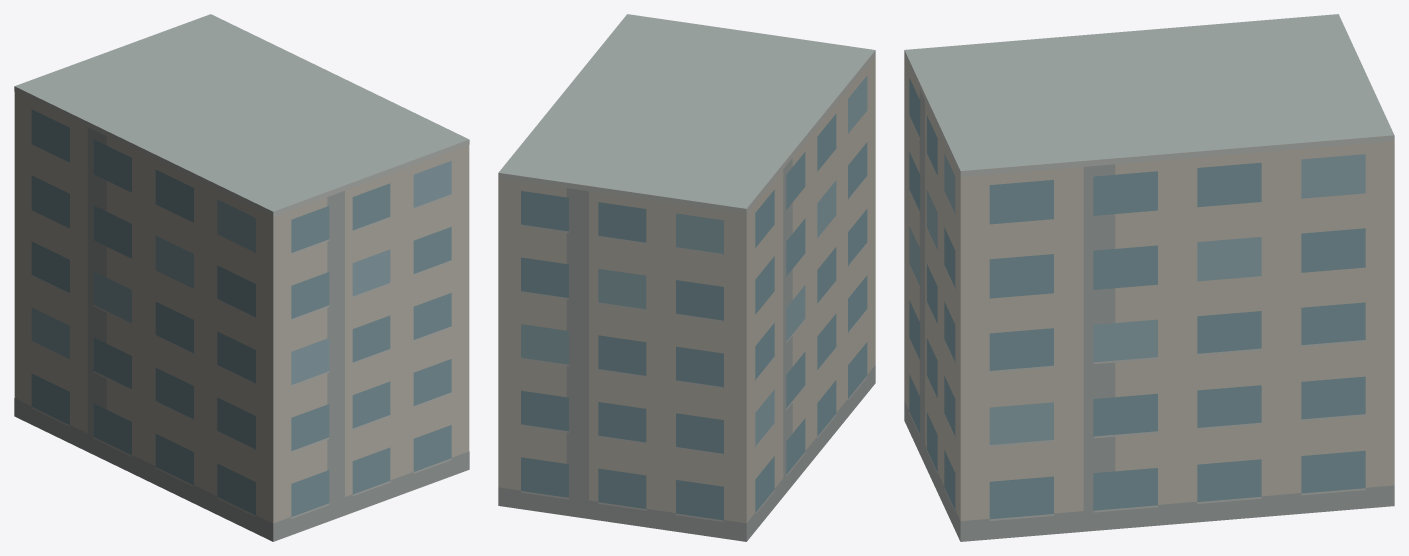
File: residential-ad5bc83f-8ae1-4af5-b922-8c363e826714.glb
The picture shows the model from 3 angles, left to right: view 1: azimuth 30°, elevation 25°; view 2: azimuth 150°, elevation 25°; view 3: azimuth 270°, elevation 25°; orthographic projection. The views are drawn at different scales.
Visible parts, largest first — view 1: residential-ad5bc83f-8ae1-4af5-b922-8c363e826714.tmp; view 2: residential-ad5bc83f-8ae1-4af5-b922-8c363e826714.tmp; view 3: residential-ad5bc83f-8ae1-4af5-b922-8c363e826714.tmp.
Part boxes in pixels (x1,y1,x2,y2): residential-ad5bc83f-8ae1-4af5-b922-8c363e826714.tmp: (14, 14, 469, 541); residential-ad5bc83f-8ae1-4af5-b922-8c363e826714.tmp: (498, 14, 875, 541); residential-ad5bc83f-8ae1-4af5-b922-8c363e826714.tmp: (904, 14, 1394, 541).
Size of the model in its own units: 13.87 by 15.25 by 18.28.
